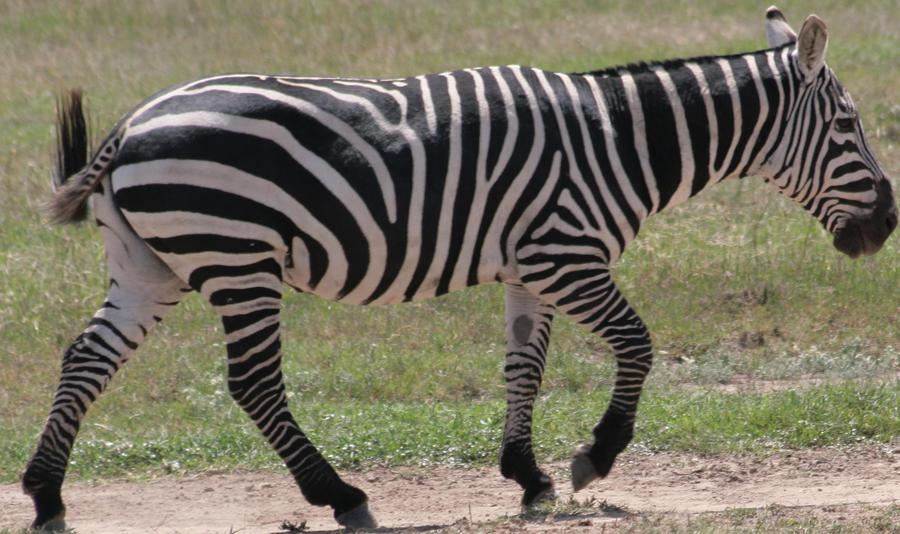zebra_plains: (149, 34, 605, 328)
